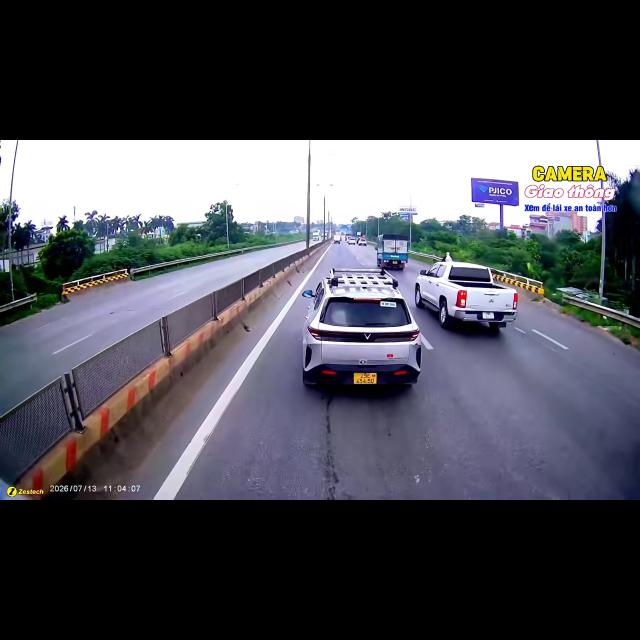car: (302, 269, 422, 385), (415, 253, 517, 331), (357, 238, 366, 245), (347, 238, 356, 244), (334, 234, 340, 243)
truck: (415, 257, 517, 331), (375, 234, 408, 269), (312, 231, 321, 241), (334, 234, 341, 243)
